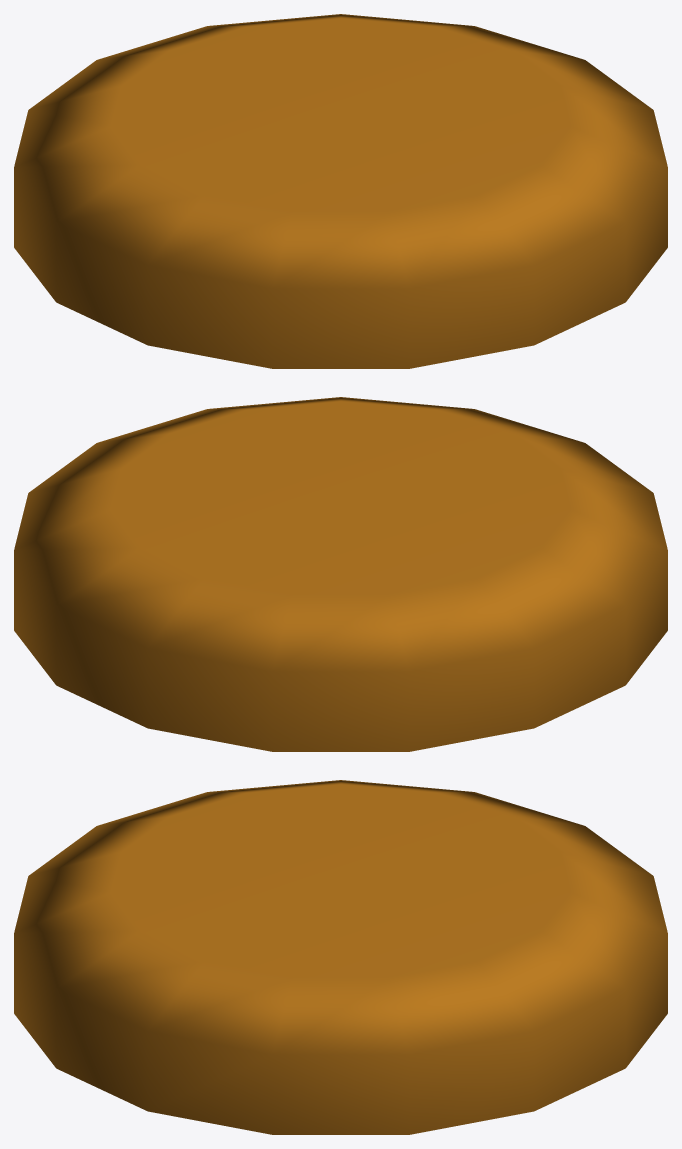
File: Bumper_A.fbx
The picture shows the model from 3 angles, top to bottom: view 1: azimuth 30°, elevation 25°; view 2: azimuth 150°, elevation 25°; view 3: azimuth 270°, elevation 25°; orthographic projection.
Visible parts, largest first — view 1: Bumper_A; view 2: Bumper_A; view 3: Bumper_A.
Boxes of the visible parts, x1,y1,x2,y2 form: Bumper_A: (14, 14, 667, 368); Bumper_A: (14, 397, 667, 751); Bumper_A: (14, 780, 667, 1134).
Bounding box in the file's own units: 6.24 × 1.24 × 6.27.
